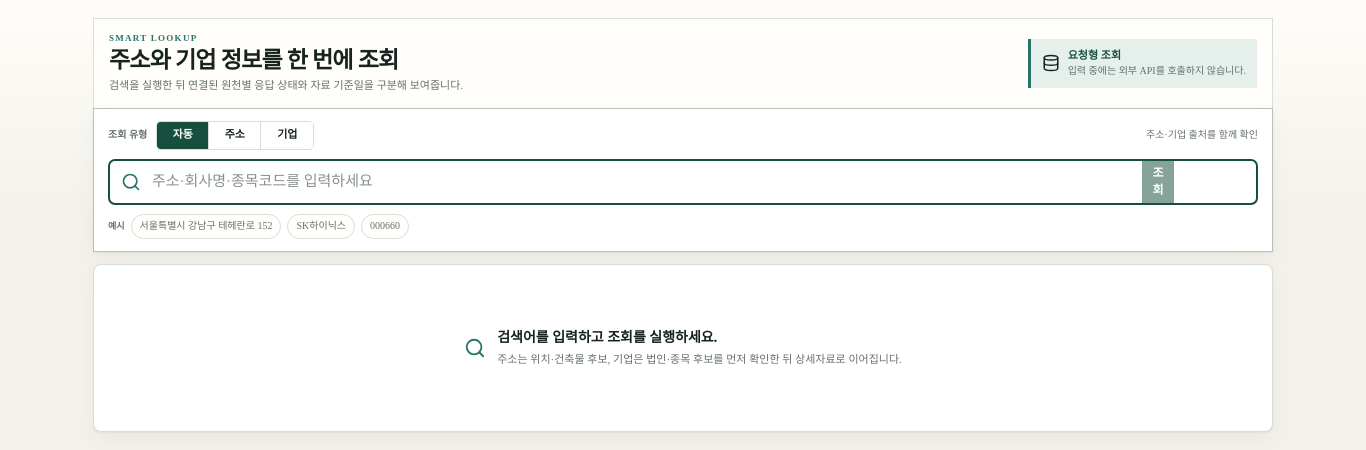
Scenario: SmartApiSearch › shows the protected route's safe error and lets the user cancel a slow request
The width and height of the screenshot is (1366, 450).
Type "000660" into the field labelled "주소·회사명·종목코드" at (647, 182), box x1=152 y1=161 x2=1142 y2=203
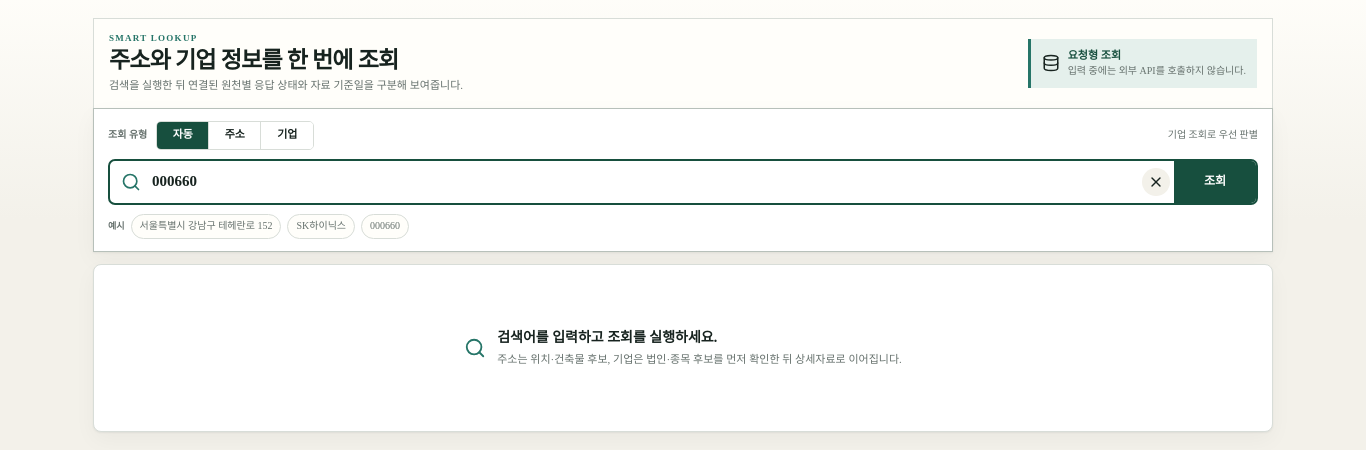
Click the button "조회" at (1215, 182), box x1=1174 y1=161 x2=1256 y2=203
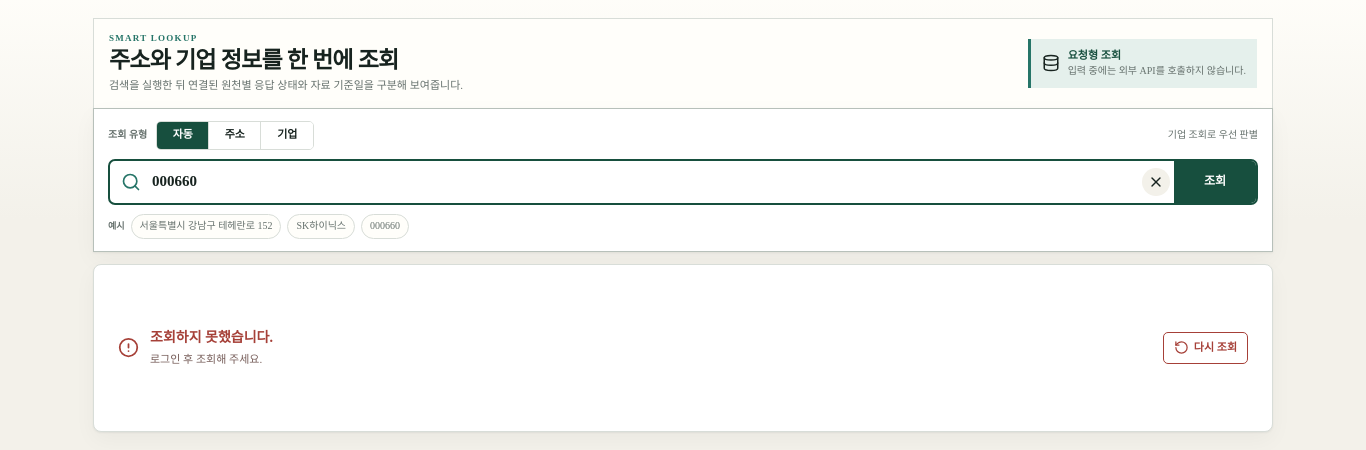
Now the text "로그인 후 조회해 주세요." is shown, box x1=150 y1=352 x2=273 y2=368
Click the button "다시 조회" at (1205, 348), box x1=1163 y1=332 x2=1248 y2=364
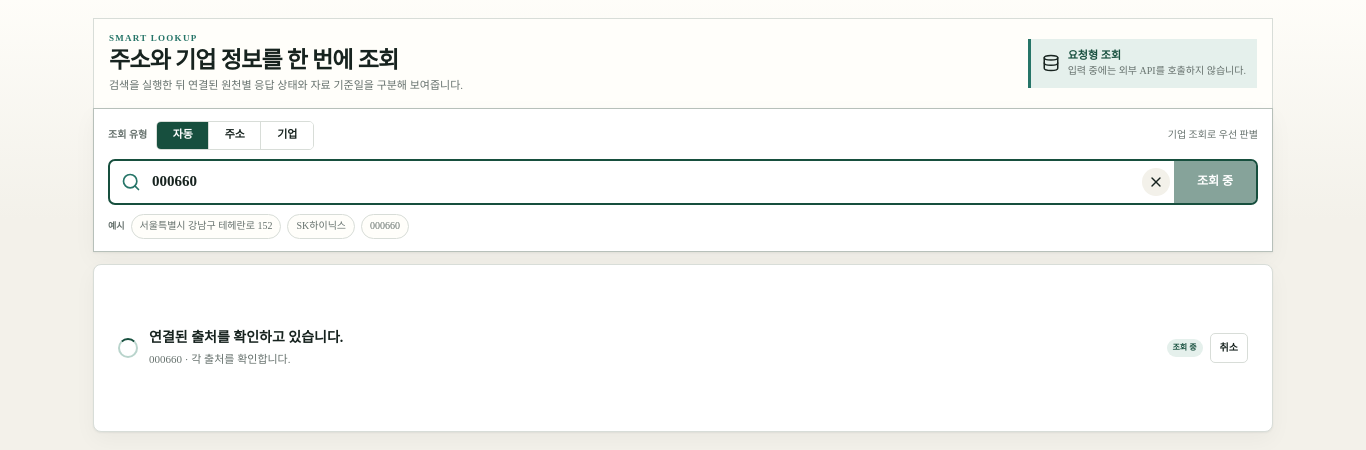
Now the button "취소" is shown
Click the button "취소" at (1229, 348), box x1=1210 y1=333 x2=1248 y2=363
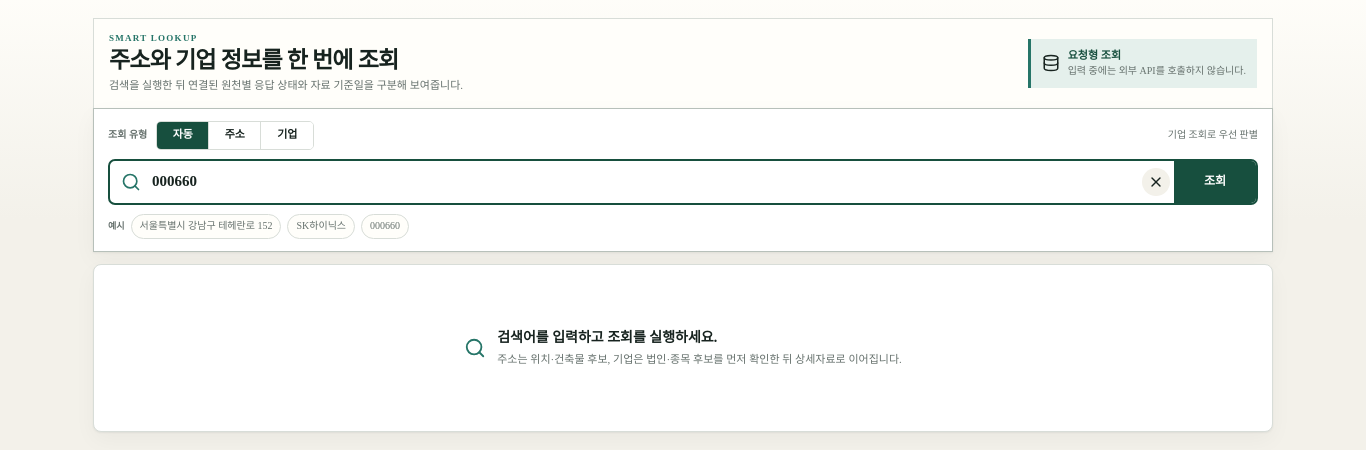
Now the text "검색어를 입력하고 조회를 실행하세요." is shown, box x1=497 y1=330 x2=717 y2=345
